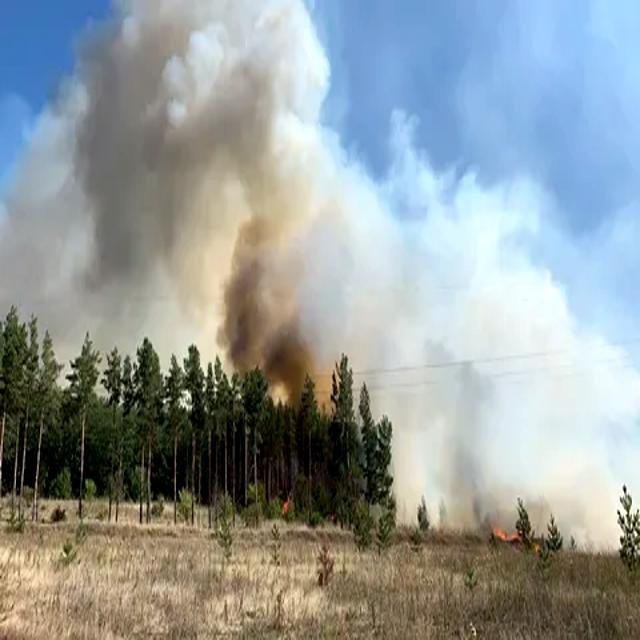Smoke: (66, 0, 339, 414), (413, 323, 550, 540)
